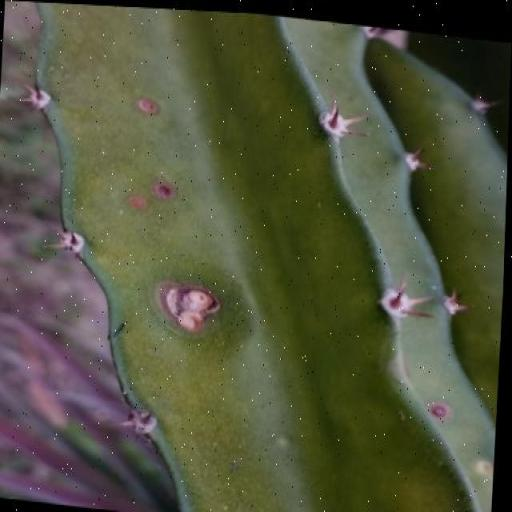stemcanker: (144, 111, 172, 144), (434, 364, 460, 397), (166, 191, 190, 216), (141, 204, 161, 230)
